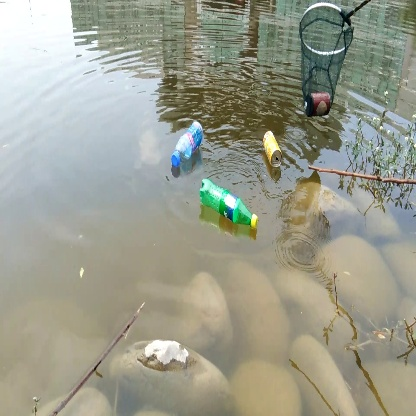bottle: (196, 168, 261, 228), (168, 116, 205, 167), (261, 128, 287, 171)
